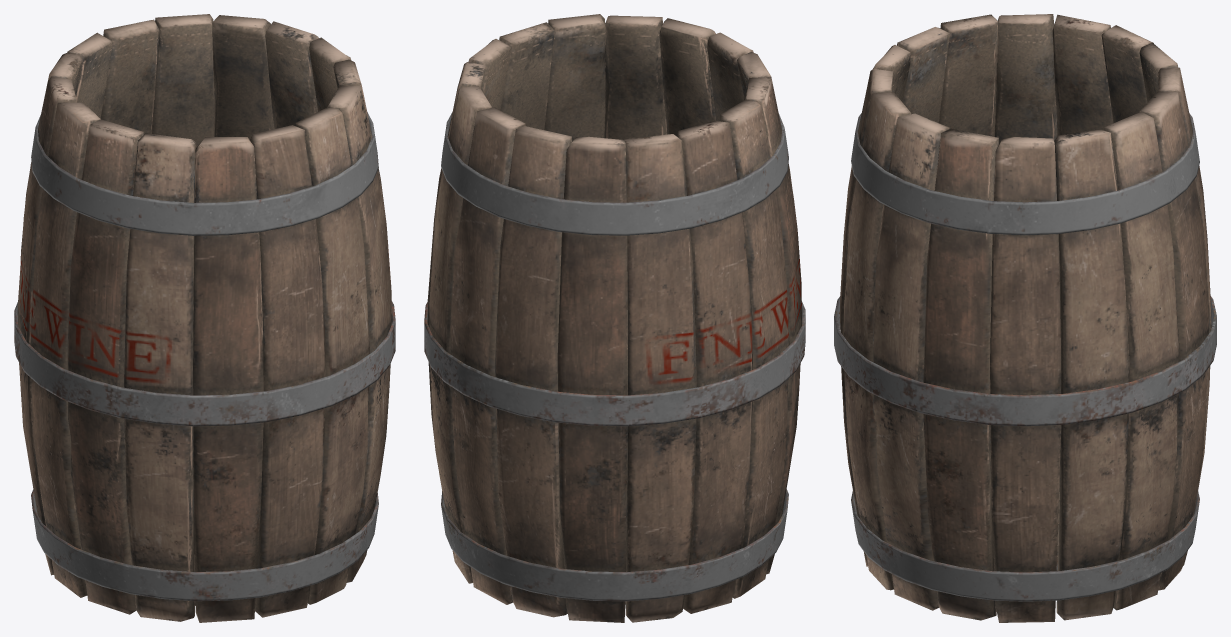
File: SM_Barrel01_2_LOD0.glb
3 renders of one model, left to right at view 1: azimuth 30°, elevation 25°; view 2: azimuth 150°, elevation 25°; view 3: azimuth 270°, elevation 25°, orthographic.
Visible parts, largest first — view 1: SM_Barrel01_2_LOD0; view 2: SM_Barrel01_2_LOD0; view 3: SM_Barrel01_2_LOD0.
Boxes of the visible parts, x1,y1,x2,y2 form: SM_Barrel01_2_LOD0: [14, 14, 395, 622]; SM_Barrel01_2_LOD0: [424, 14, 805, 622]; SM_Barrel01_2_LOD0: [834, 14, 1216, 622].
Size of the model in its own units: 0.5945 by 0.8191 by 0.5945.
Materials: 1 (1 with a texture image).
